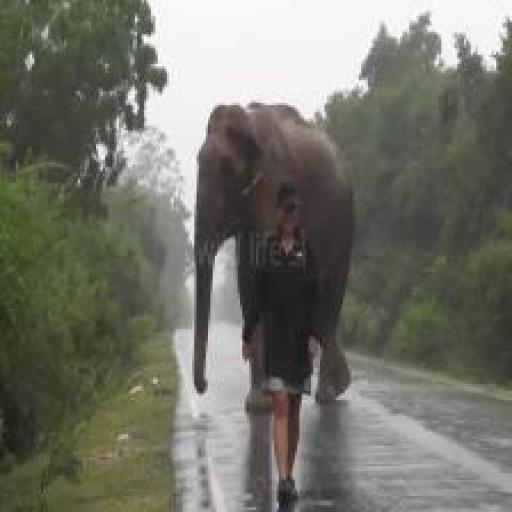Elephant: (176, 61, 376, 512)
